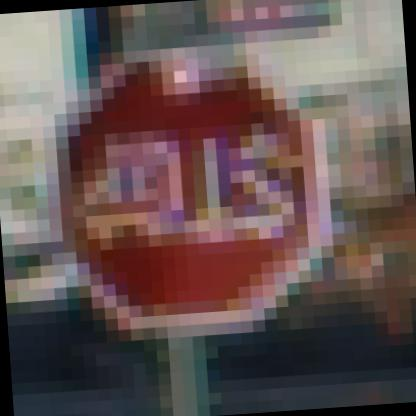stop: (23, 28, 356, 358)
